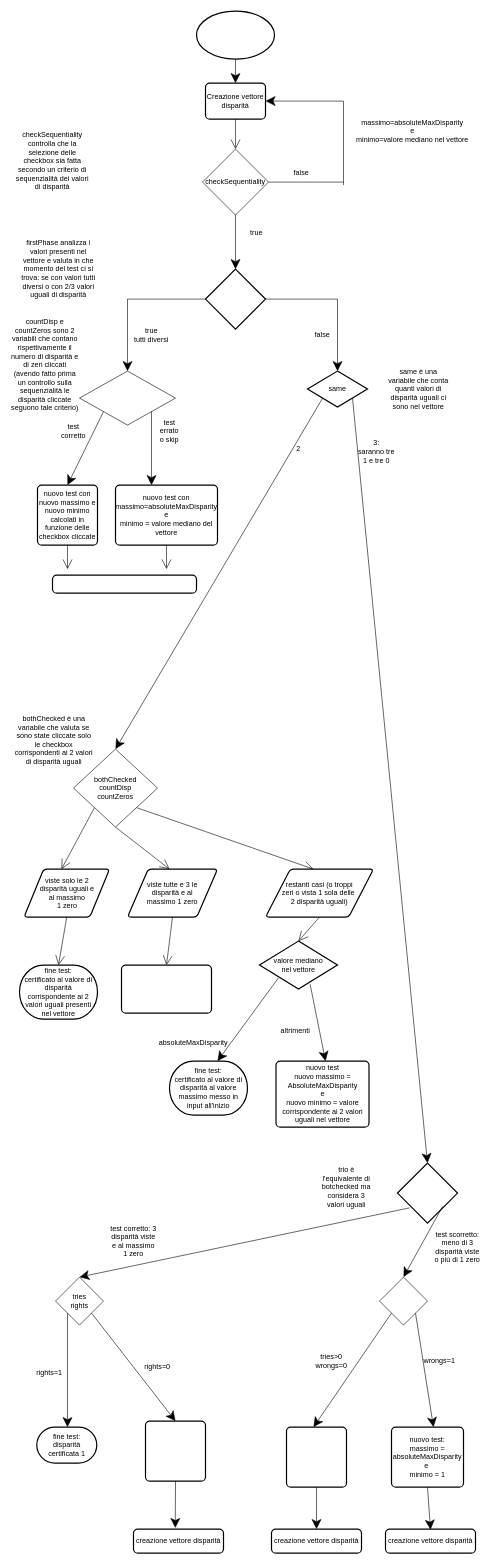
This 491x1564 diagram has some shape labels left out. Here are the shapes that lost their labels. From the top down, the centre of each, then its label:
the point at 235,34: inizializzazione absoluteMaxDisparity
the point at 235,298: firstPhase
the point at 127,397: countDisp & countZeros
the point at 124,583: Creazione vettore di disparità
the point at 166,988: nuovo test nuovo massimo = minimo del vettore vecchio e nuovo minimo = 1
the point at 427,1192: trio & countZeros
the point at 403,1300: tries wrongs
the point at 175,1450: nuovo test con 3 zero e 3 uno (aumento rights e diminuisco tries)
the point at 316,1456: nuovo test con 3 zero e 3 uno (aumento wrongs e diminuisco tries)
